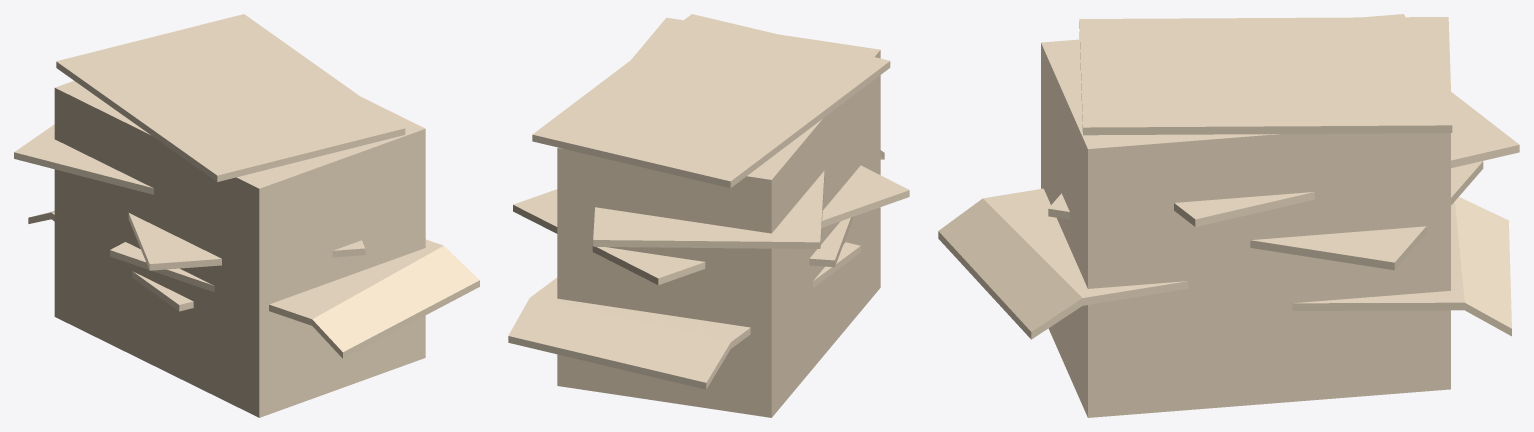
Rendered from g_o_paperwork.fbx.
3 views of the same model, side by side, from view 1: azimuth 30°, elevation 25°; view 2: azimuth 150°, elevation 25°; view 3: azimuth 270°, elevation 25° (orthographic). The views are drawn at different scales.
Visible parts, largest first — view 1: pasted__pCube207; view 2: pasted__pCube207; view 3: pasted__pCube207.
Boxes of the visible parts, left/top/right/bottom form: pasted__pCube207: left=14, top=14, right=479, bottom=417; pasted__pCube207: left=508, top=14, right=909, bottom=417; pasted__pCube207: left=938, top=14, right=1519, bottom=417.
Bounding box in the file's own units: 31.23 × 22.78 × 43.24.
